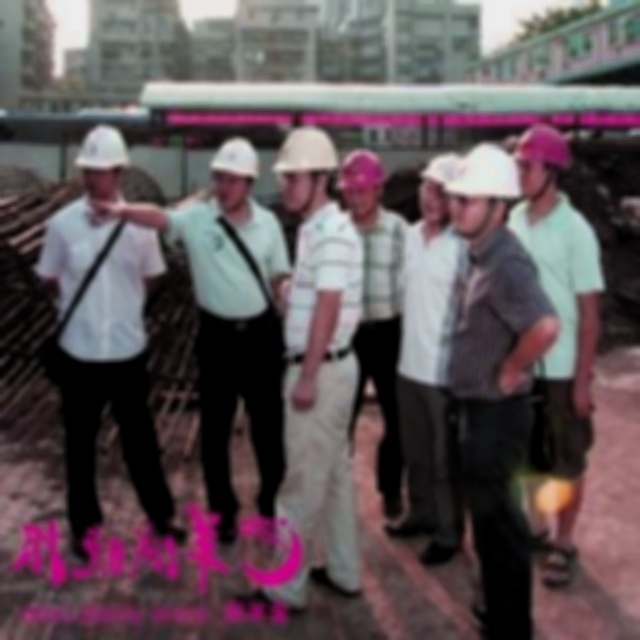Con_Casco: (272, 123, 336, 213), (206, 137, 258, 215)
